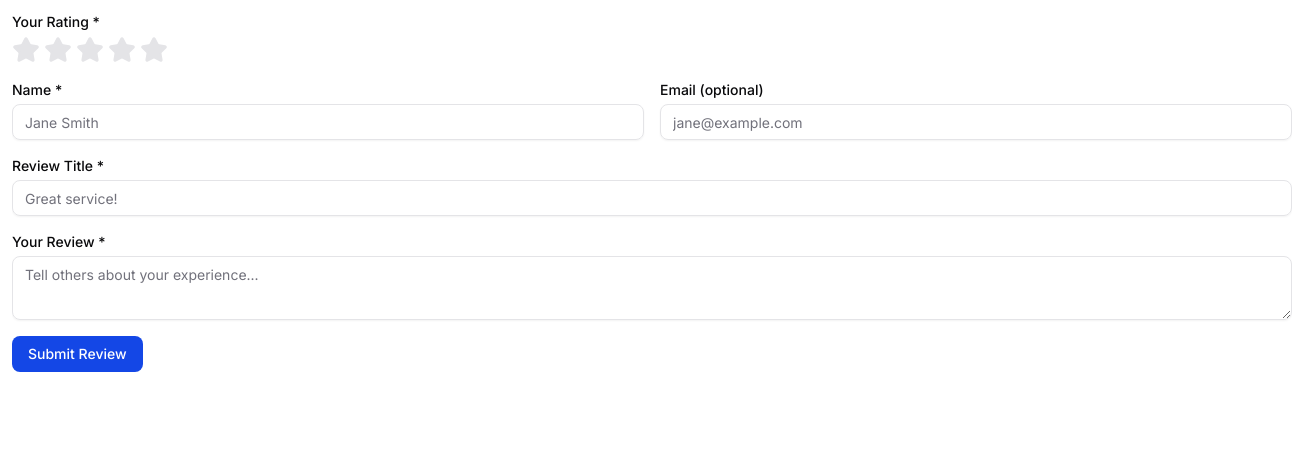
Test: ReviewForm › shows validation errors when submitting empty form
Click the button "Submit Review".
click(77, 354)  # box top-left (12, 336), bottom-right (143, 372)
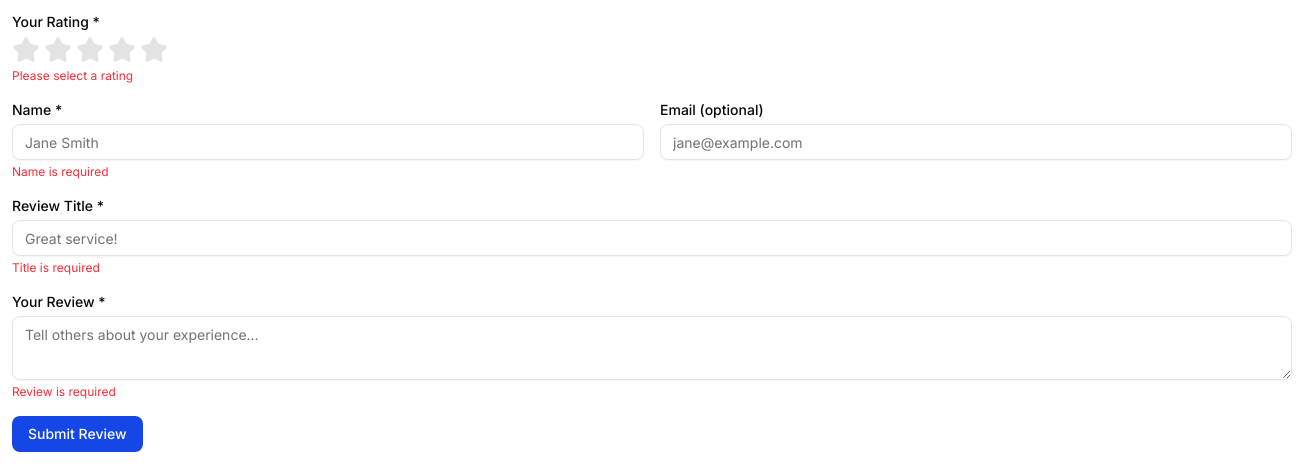
expect the text "Name is required" is shown: met, box top-left (12, 164), bottom-right (109, 179)
expect the text "Please select a rating" is shown: met, box top-left (12, 68), bottom-right (133, 83)
expect the text "Title is required" is shown: met, box top-left (12, 260), bottom-right (100, 275)
